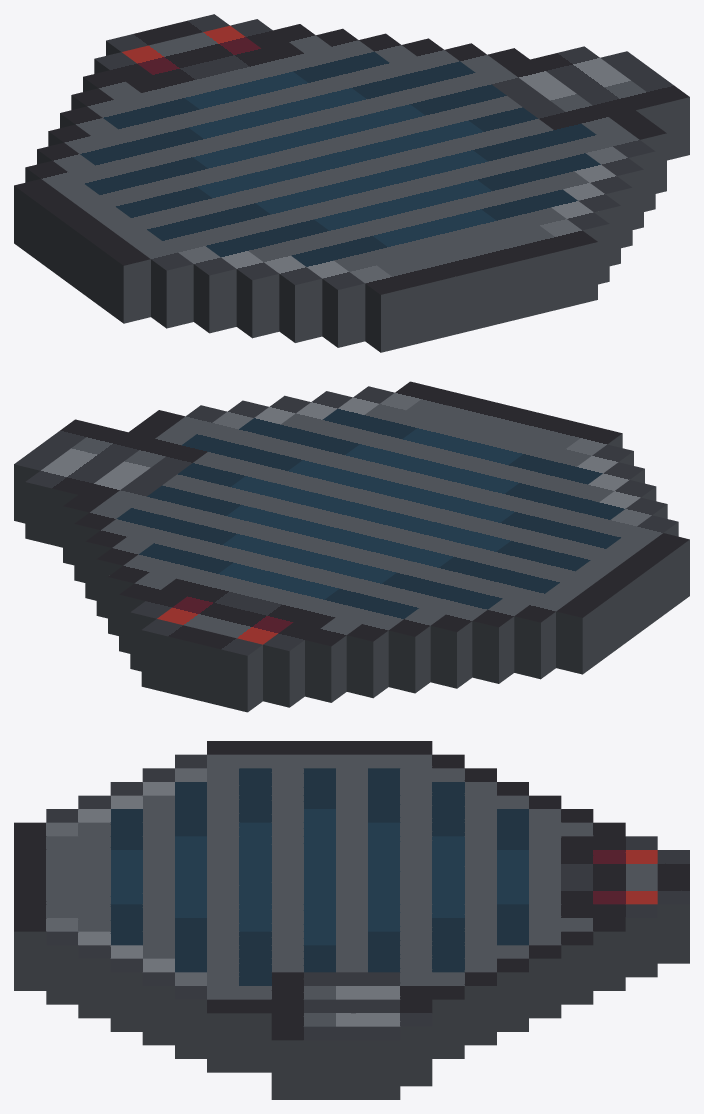
The model's file is holopad.glb.
The picture shows the model from 3 angles, top to bottom: view 1: azimuth 30°, elevation 25°; view 2: azimuth 150°, elevation 25°; view 3: azimuth 270°, elevation 25°; orthographic projection. The views are drawn at different scales.
Visible parts, largest first — view 1: holopad_Floor_Housing; view 2: holopad_Floor_Housing; view 3: holopad_Floor_Housing.
Boxes of the visible parts, x1,y1,x2,y2 form: holopad_Floor_Housing: [14, 14, 689, 352]; holopad_Floor_Housing: [14, 381, 689, 712]; holopad_Floor_Housing: [14, 741, 689, 1099].
Bounding box in the file's own units: 0.594 × 0.055 × 0.567.
1 material, 1 textured.
